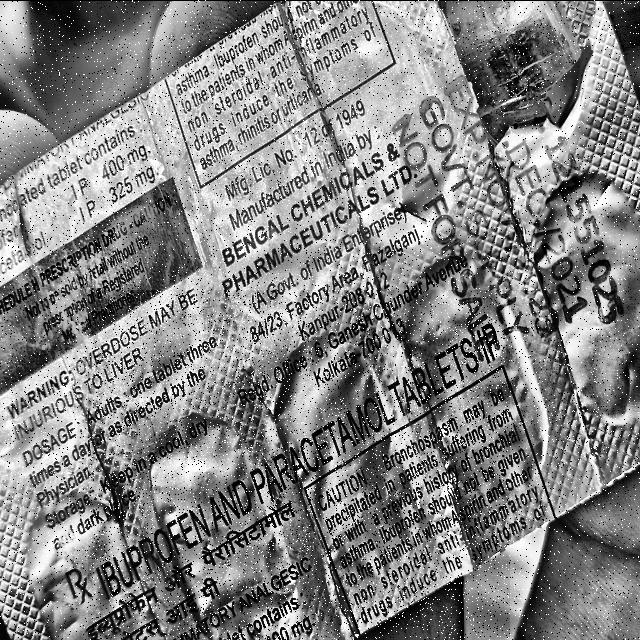IBUPROFEN AND PARACETAMOL TABLETS: (89, 289, 510, 640)
